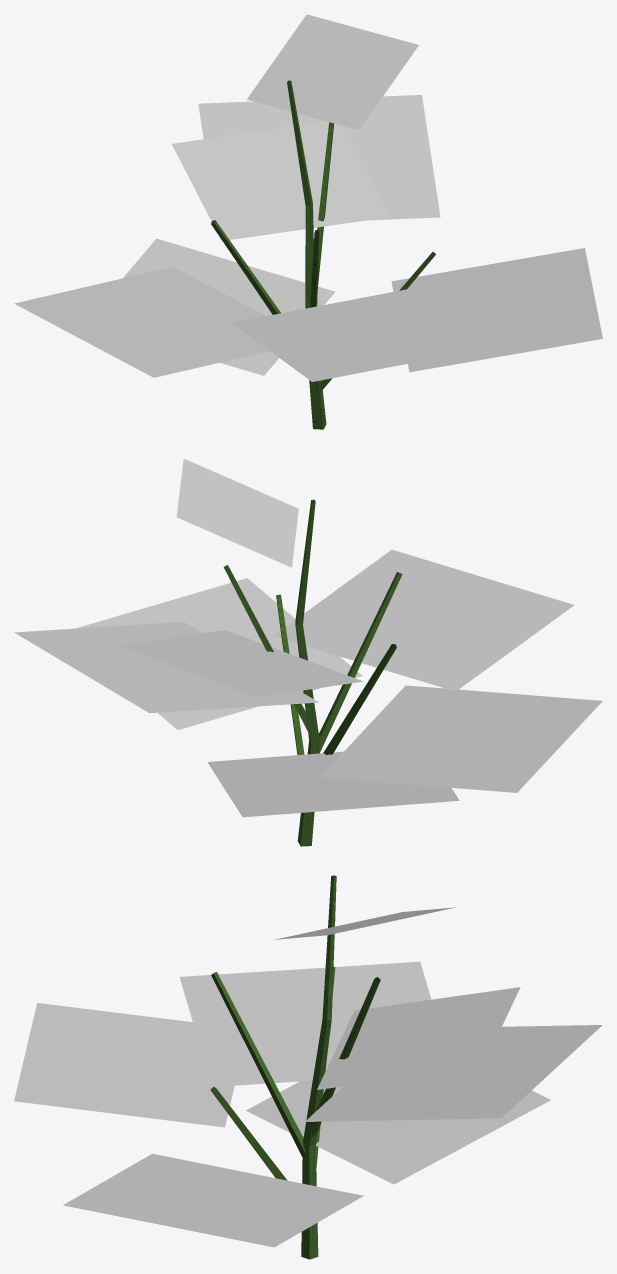
File: plant_2_3_0_lod.obj
The picture shows the model from 3 angles, top to bottom: view 1: azimuth 30°, elevation 25°; view 2: azimuth 150°, elevation 25°; view 3: azimuth 270°, elevation 25°; orthographic projection. The views are drawn at different scales.
Parts seen in each view (by area): view 1: model; view 2: model; view 3: model.
Boxes of the visible parts, x1,y1,x2,y2 form: model: [14, 14, 602, 429]; model: [14, 458, 602, 846]; model: [14, 875, 602, 1259].
Size of the model in its own units: 0.7958 by 0.5285 by 0.7437.
